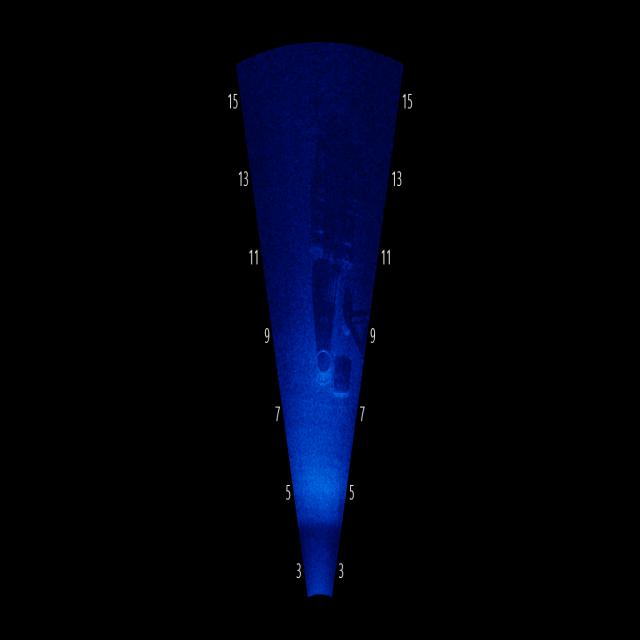circle: (306, 325, 334, 398)
